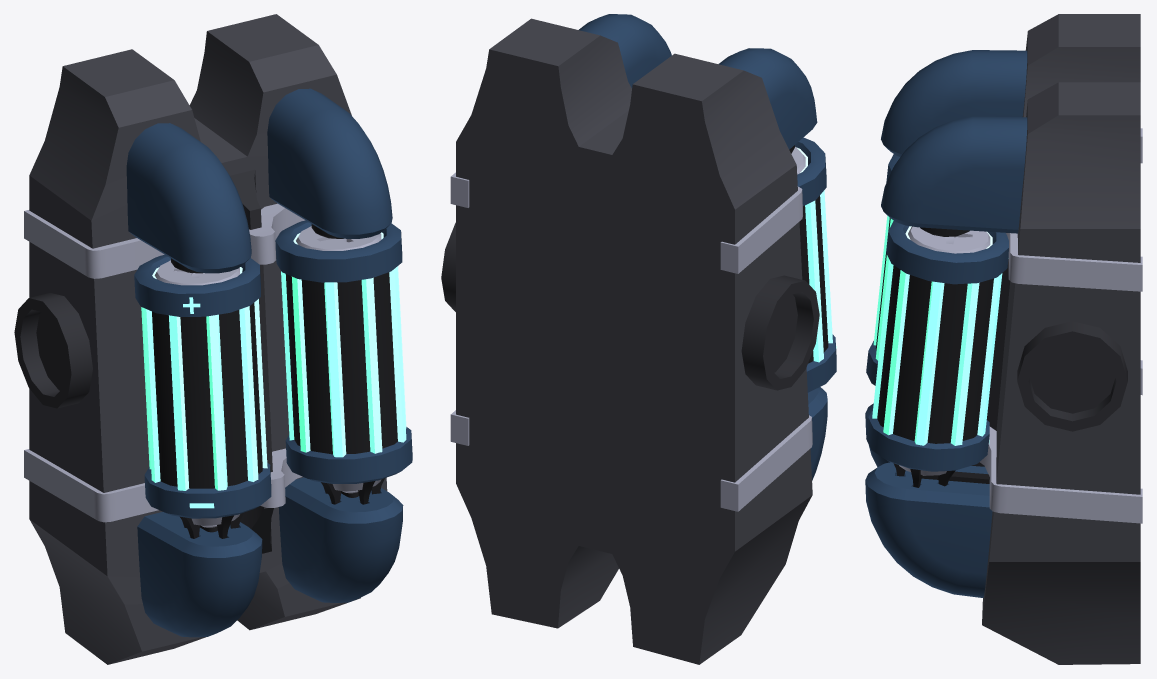
Rendered from Misc_BatteryCharger_X2_B.glb.
The picture shows the model from 3 angles, left to right: view 1: azimuth 30°, elevation 25°; view 2: azimuth 150°, elevation 25°; view 3: azimuth 270°, elevation 25°; orthographic projection. The views are drawn at different scales.
Visible parts, largest first — view 1: Misc_BatteryCharger_X2_B.001; view 2: Misc_BatteryCharger_X2_B.001; view 3: Misc_BatteryCharger_X2_B.001.
Boxes of the visible parts, x1,y1,x2,y2 form: Misc_BatteryCharger_X2_B.001: [14, 14, 412, 664]; Misc_BatteryCharger_X2_B.001: [441, 14, 836, 664]; Misc_BatteryCharger_X2_B.001: [865, 14, 1142, 664].
Size of the model in its own units: 0.1841 by 0.3091 by 0.141.
